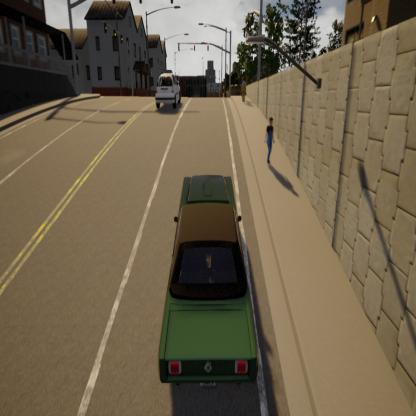Cars: (141, 161, 261, 394), (150, 67, 184, 112)
Pedestrian: (265, 108, 276, 174), (240, 72, 248, 104)
